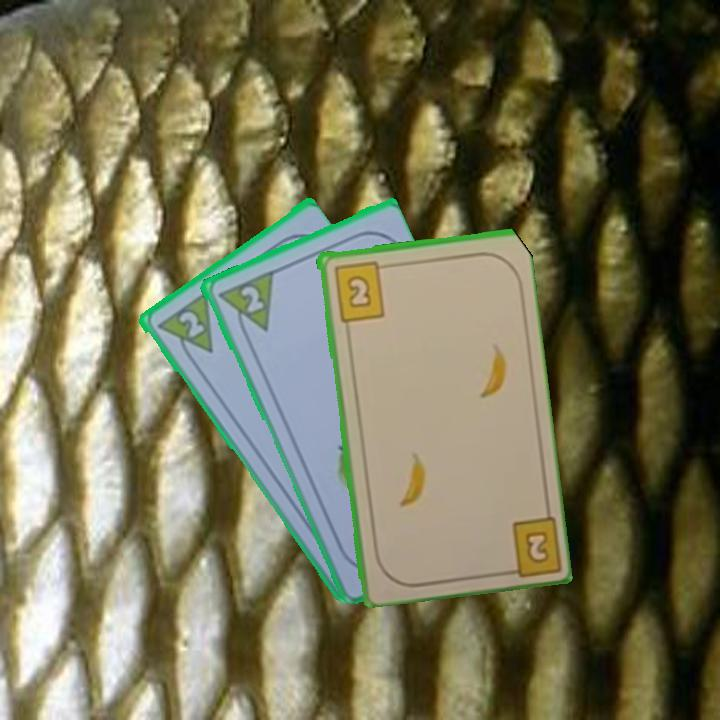2b: (496, 510, 561, 578), (330, 258, 391, 324)
2p: (152, 289, 216, 367), (236, 281, 266, 316)
